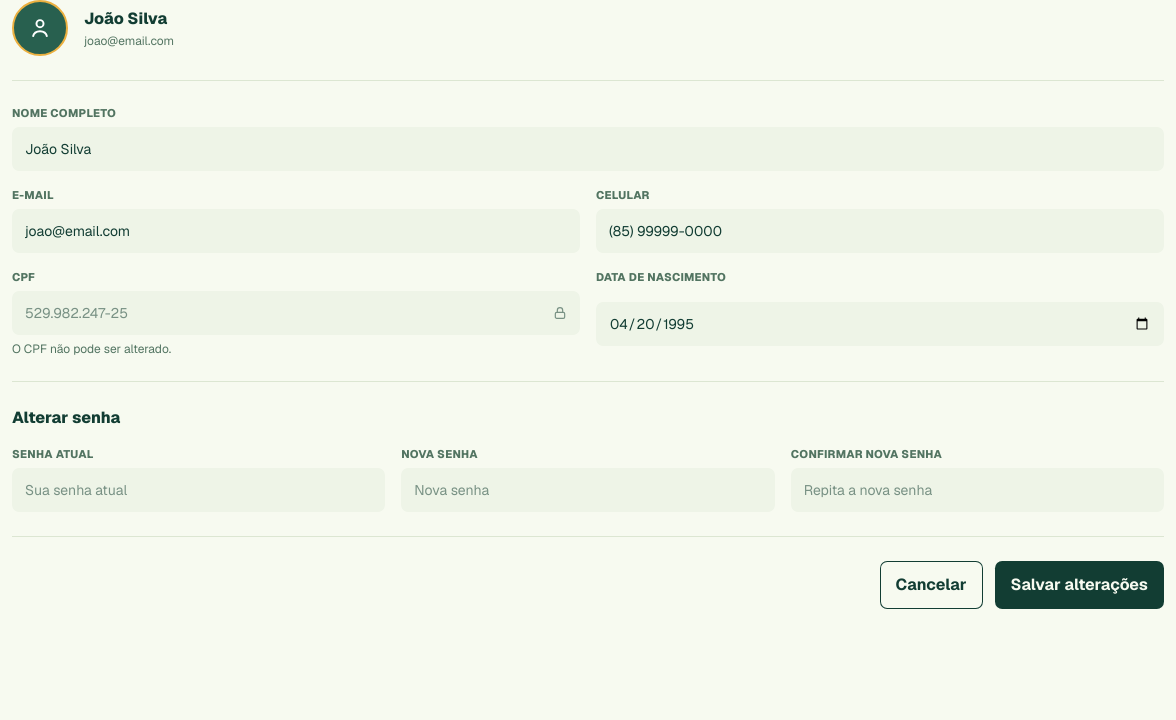
Test: FormularioEdicaoPerfil › salva só os dados quando a senha não foi preenchida
In the field labelled "Celular": (880, 231) [596,209,1164,253], type "(85) 98888-0000"
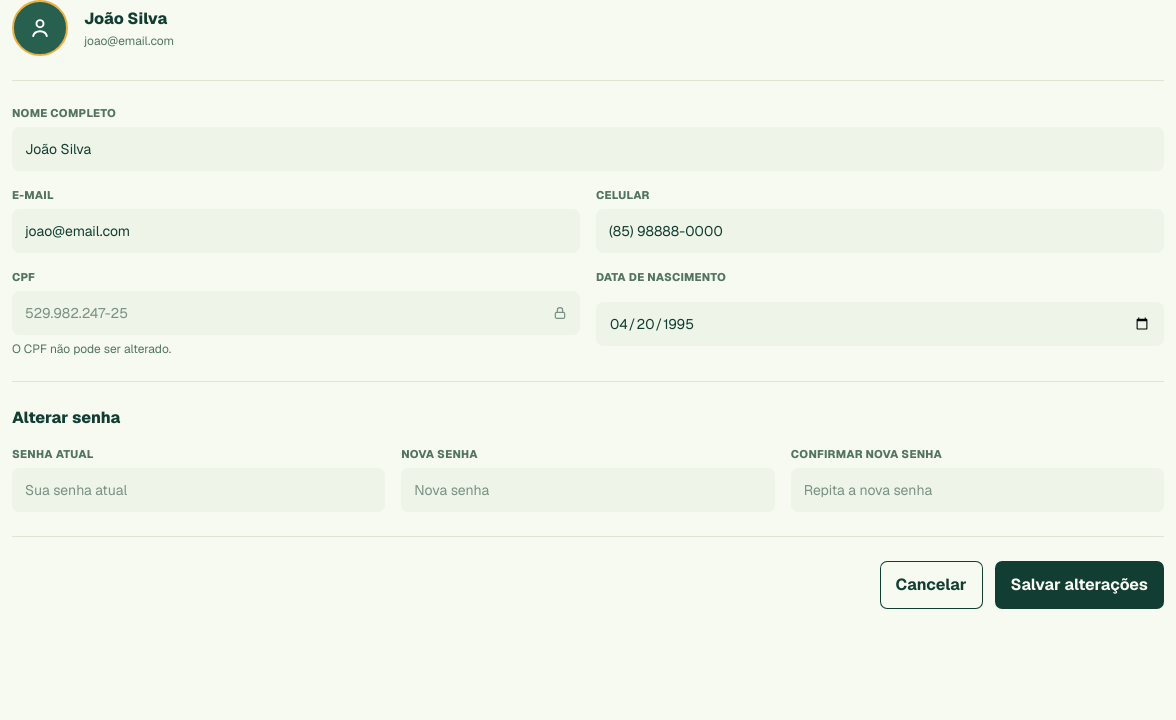
Click the button "Salvar alterações": (1079, 585) [995,561,1164,609]
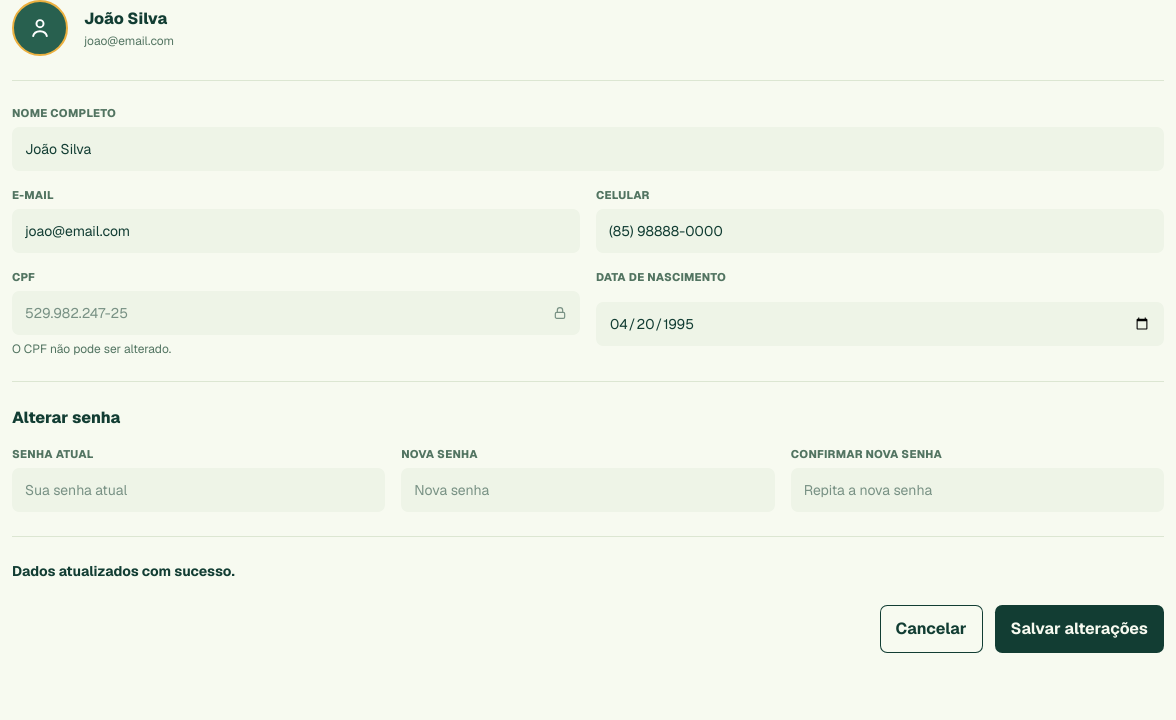
Expected: the text "Dados atualizados com sucesso." is shown, [12,562,235,580]
